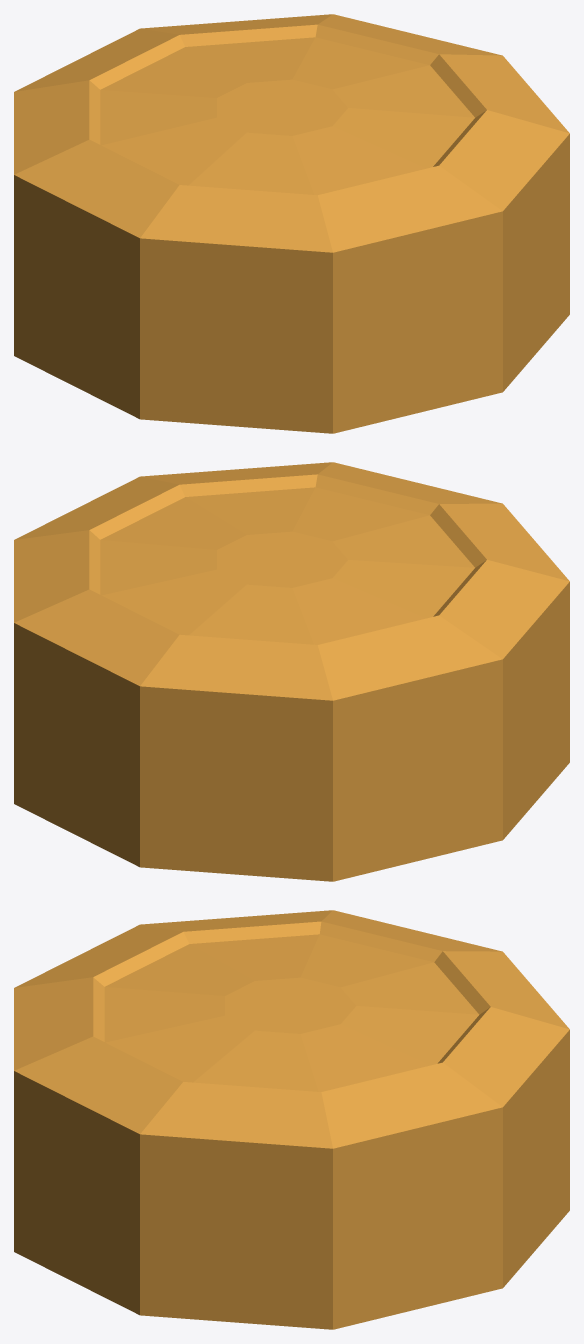
Rendered from scifi-buggy-wheel.fbx.
3 views of the same model, one above another, from view 1: azimuth 30°, elevation 25°; view 2: azimuth 150°, elevation 25°; view 3: azimuth 270°, elevation 25° (orthographic).
Visible parts, largest first — view 1: scifi-buggy-wheel; view 2: scifi-buggy-wheel; view 3: scifi-buggy-wheel.
Part boxes in pixels (x1=…): scifi-buggy-wheel: x1=14, y1=14, x2=569, y2=433; scifi-buggy-wheel: x1=14, y1=462, x2=569, y2=881; scifi-buggy-wheel: x1=14, y1=910, x2=569, y2=1329.
Bounding box in the file's own units: 1.69 × 0.7531 × 1.66.
